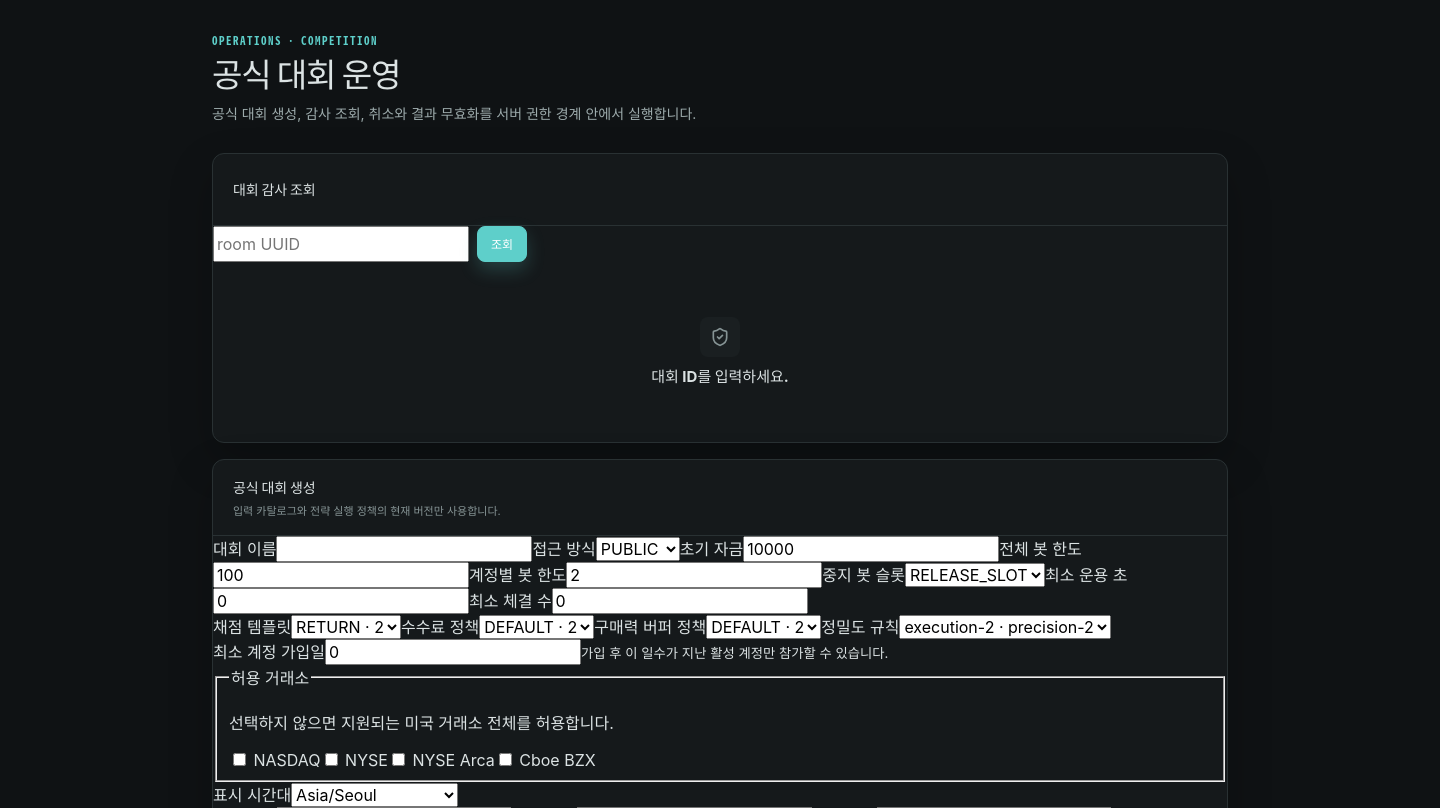
Test: OperatorCompetitionWorkspace › creates an official room from typed eligibility and market controls without raw JSON
Type "Platform Cup" into the field named "Official room name". click: (404, 549)
box: [276,536,532,562]
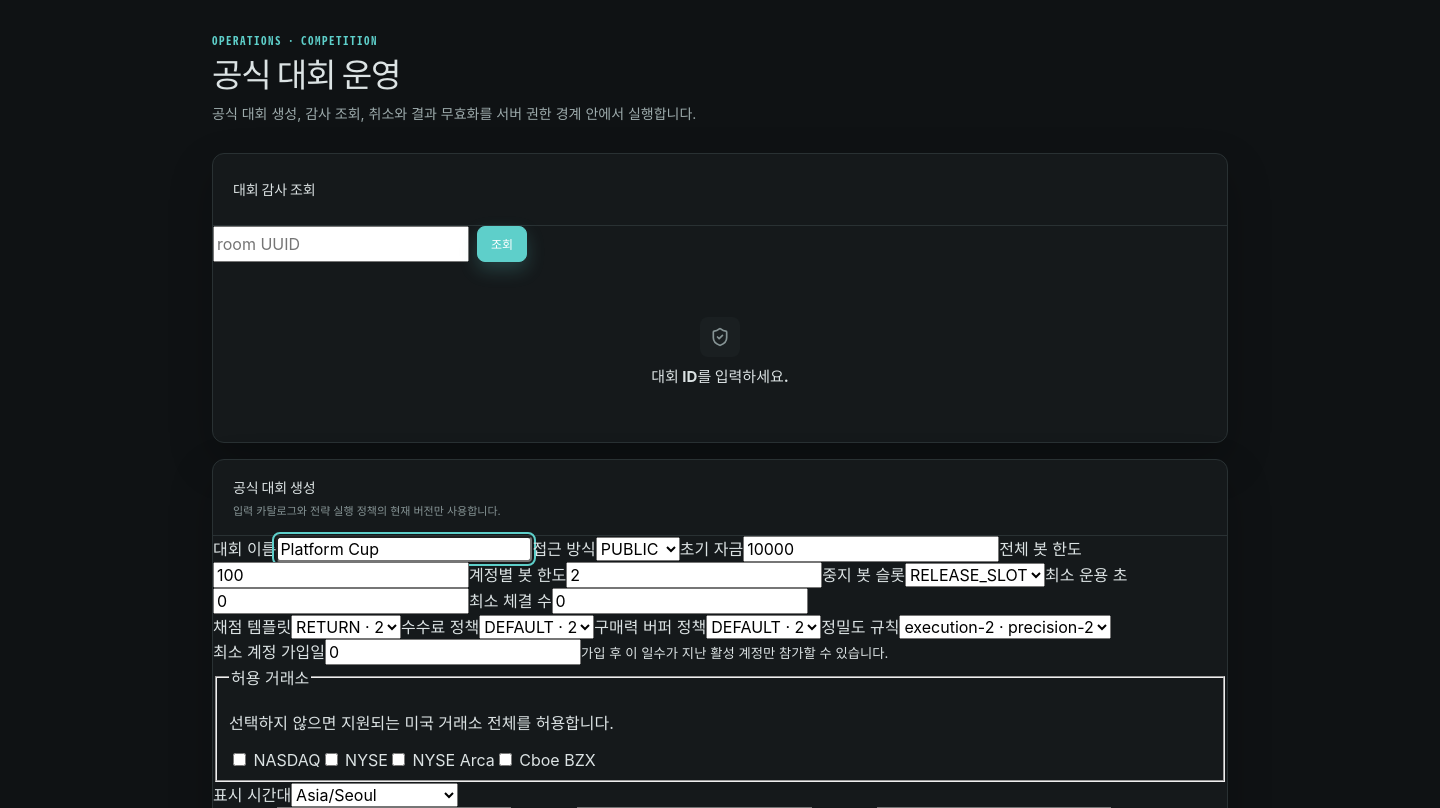
Replace the text in the number field labelled "최소 계정 가입일" with "7". click: (453, 652)
box: [325,639,581,665]
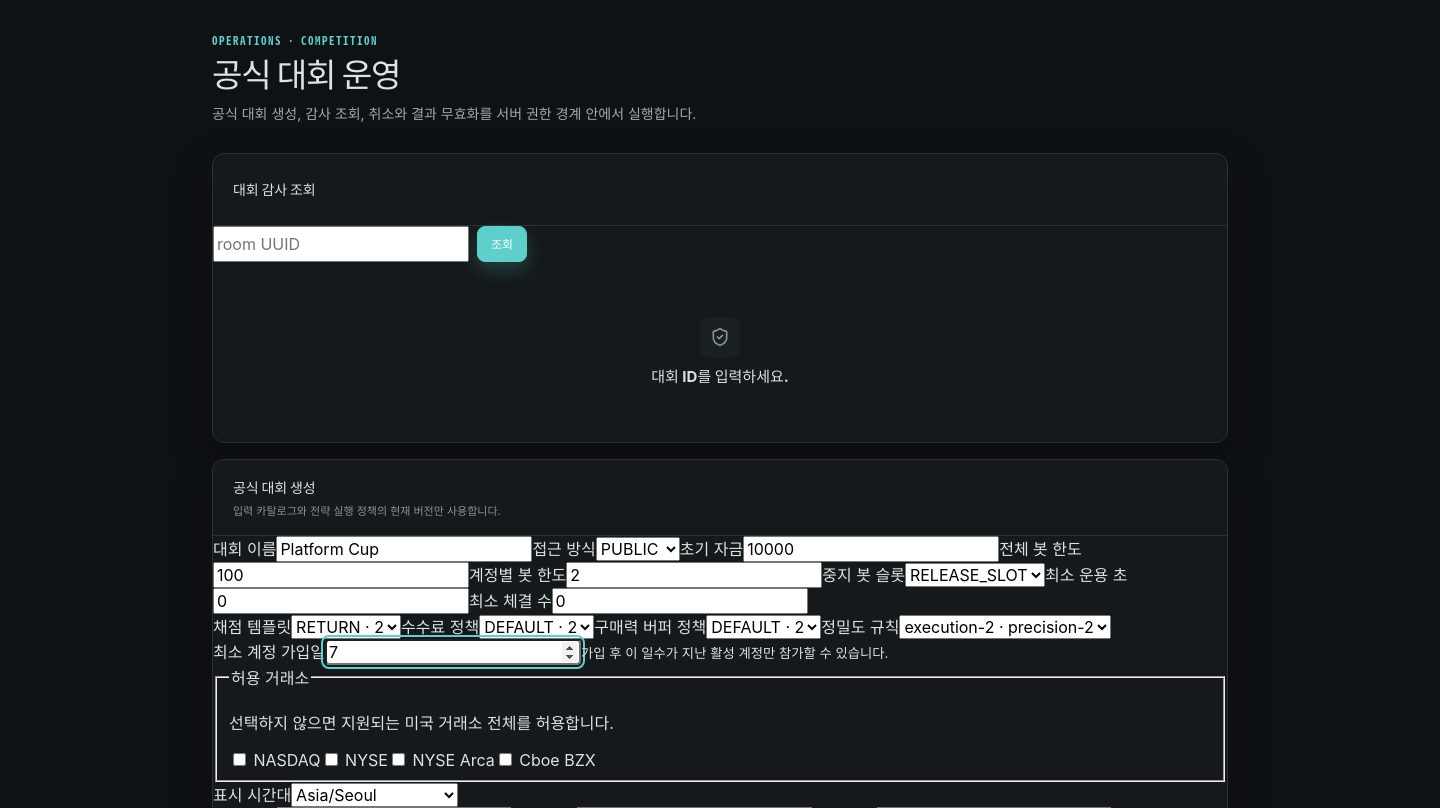
Click the checkbox labelled "NYSE". click: (331, 760)
box: [325,753,338,766]
(page scrolled)
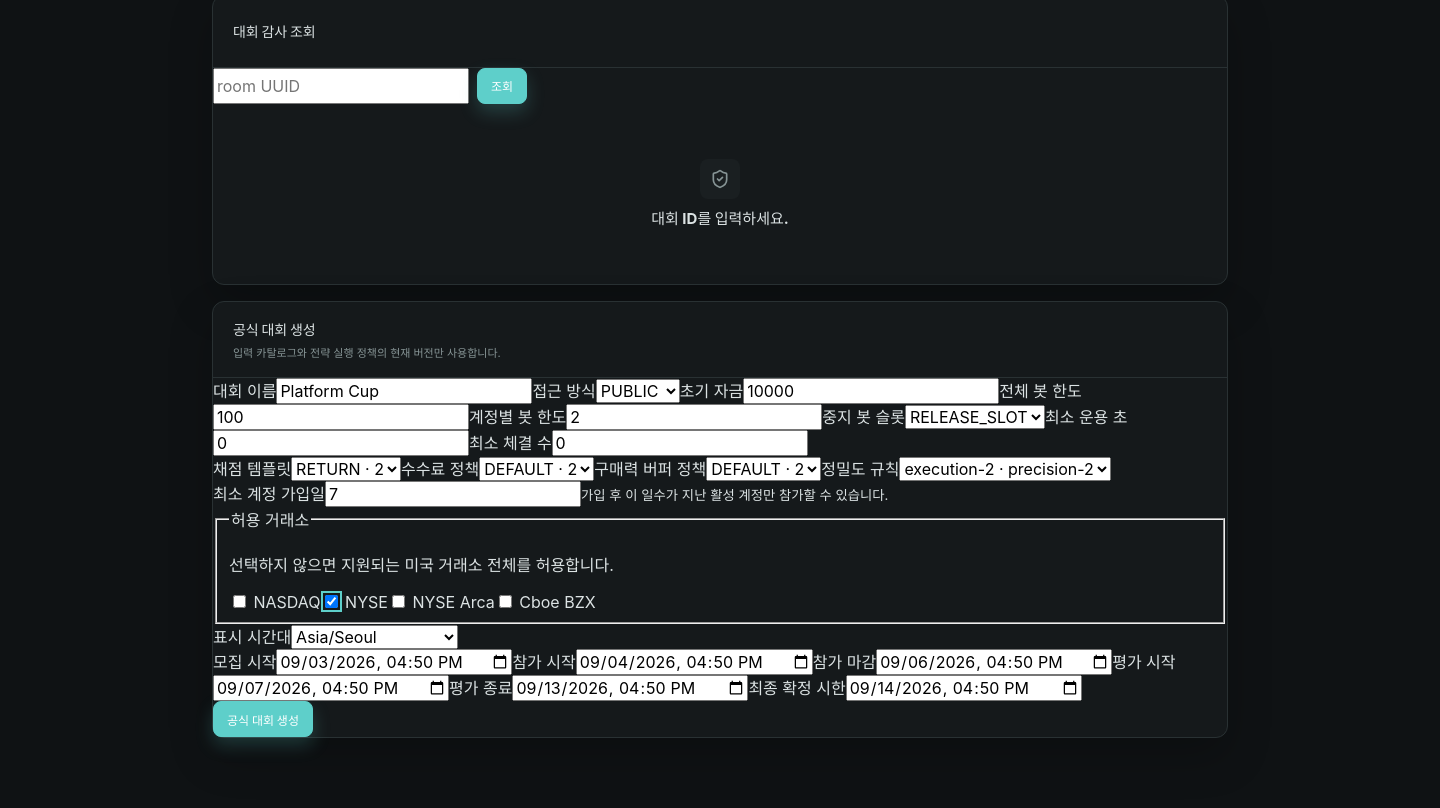
Click the button "공식 대회 생성". click: (263, 719)
box: [213,701,313,737]
(page scrolled)
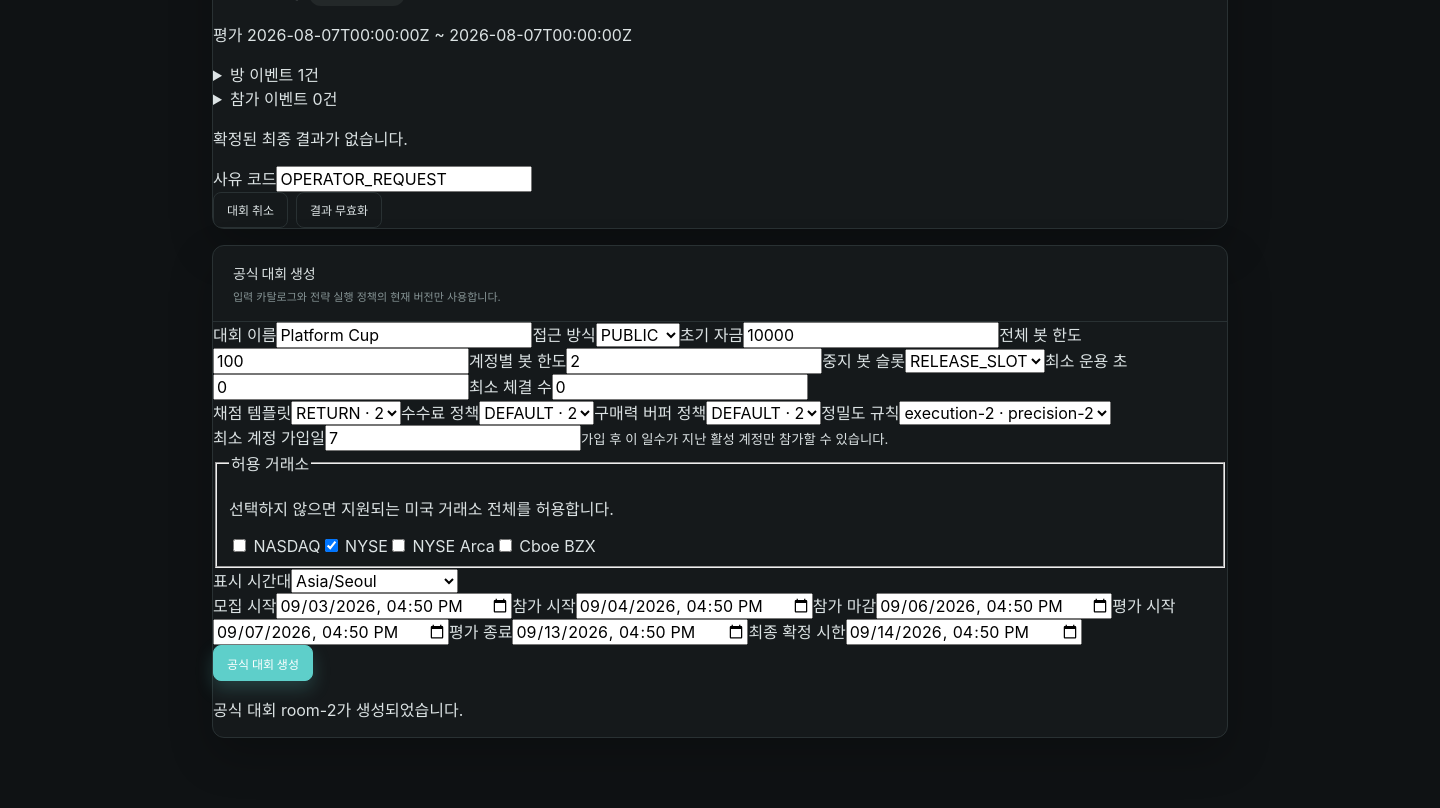
Now the text "공식 대회 room-2가 생성되었습니다." is shown, box [213,700,463,720]
